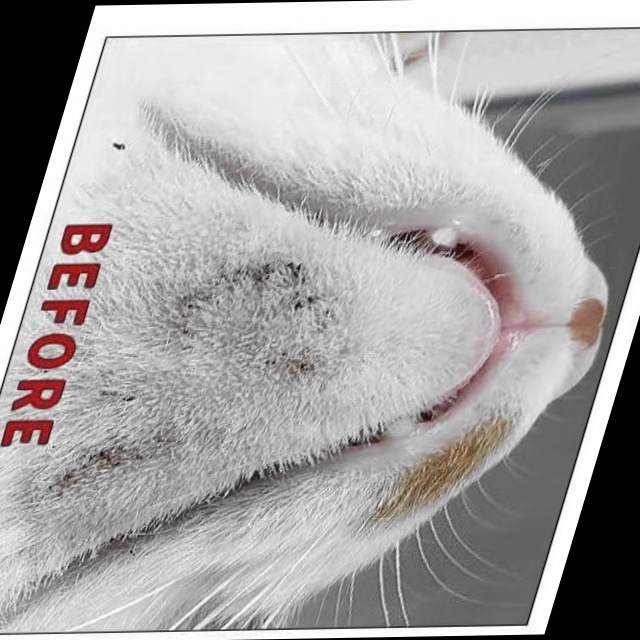acne: (86, 263, 367, 422)
